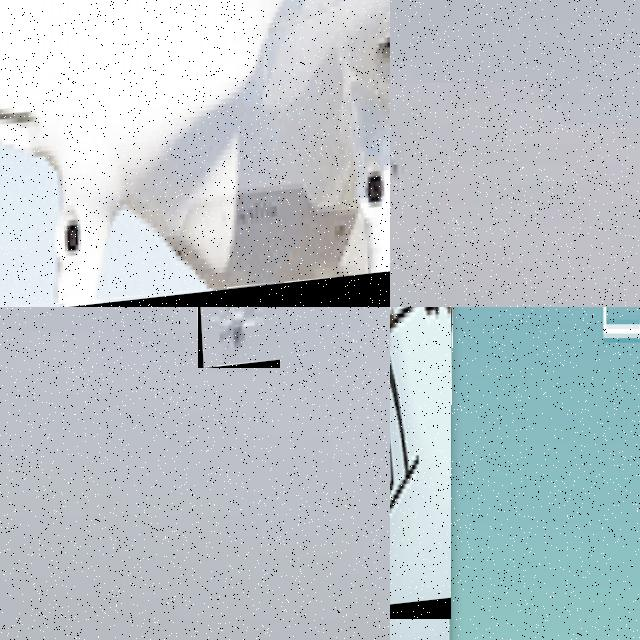0: (198, 307, 280, 368)
drone: (0, 0, 390, 307), (390, 307, 451, 619)
